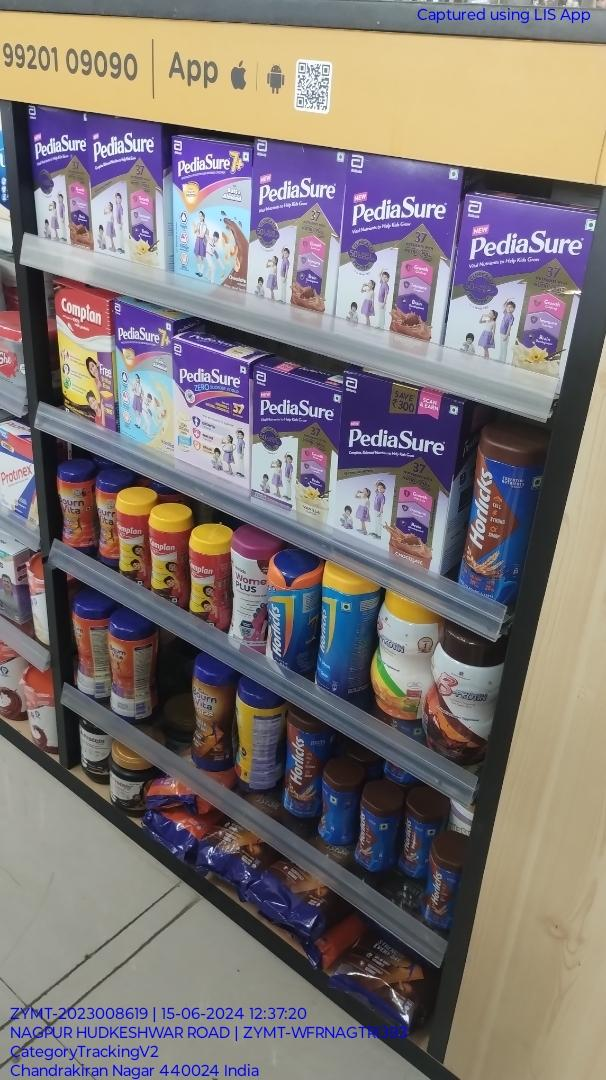BOURN_VITA_FIVE_STAR_MAGIC_500_G_JAR: (190, 654, 232, 776)
COMPLAN_CHOCOLATE_200_GMS_JAR: (188, 533, 228, 624), (148, 507, 184, 600)
COMPLAN_CHOCOLATE_500_GMS_PACK: (54, 289, 109, 426)
HORLICK_CHOCOLATE_200_G_JAR: (356, 783, 394, 875), (401, 786, 425, 878)
HORLICK_CHOCOLATE_500_G_JAR: (465, 429, 527, 601), (282, 707, 319, 819)
HORLICK_CLASSIC_MALT_500_G_JAR: (267, 556, 311, 675)
PEDIASURE_7_PLUS_CHOCOLATE_400_G_PACK: (173, 138, 246, 288)
PEDIASURE_CHOCOLATE_500_G_PACK: (343, 154, 440, 351), (255, 139, 335, 324)
PEDIASURE_VANILLA_500_G_PACK: (90, 115, 163, 270)
